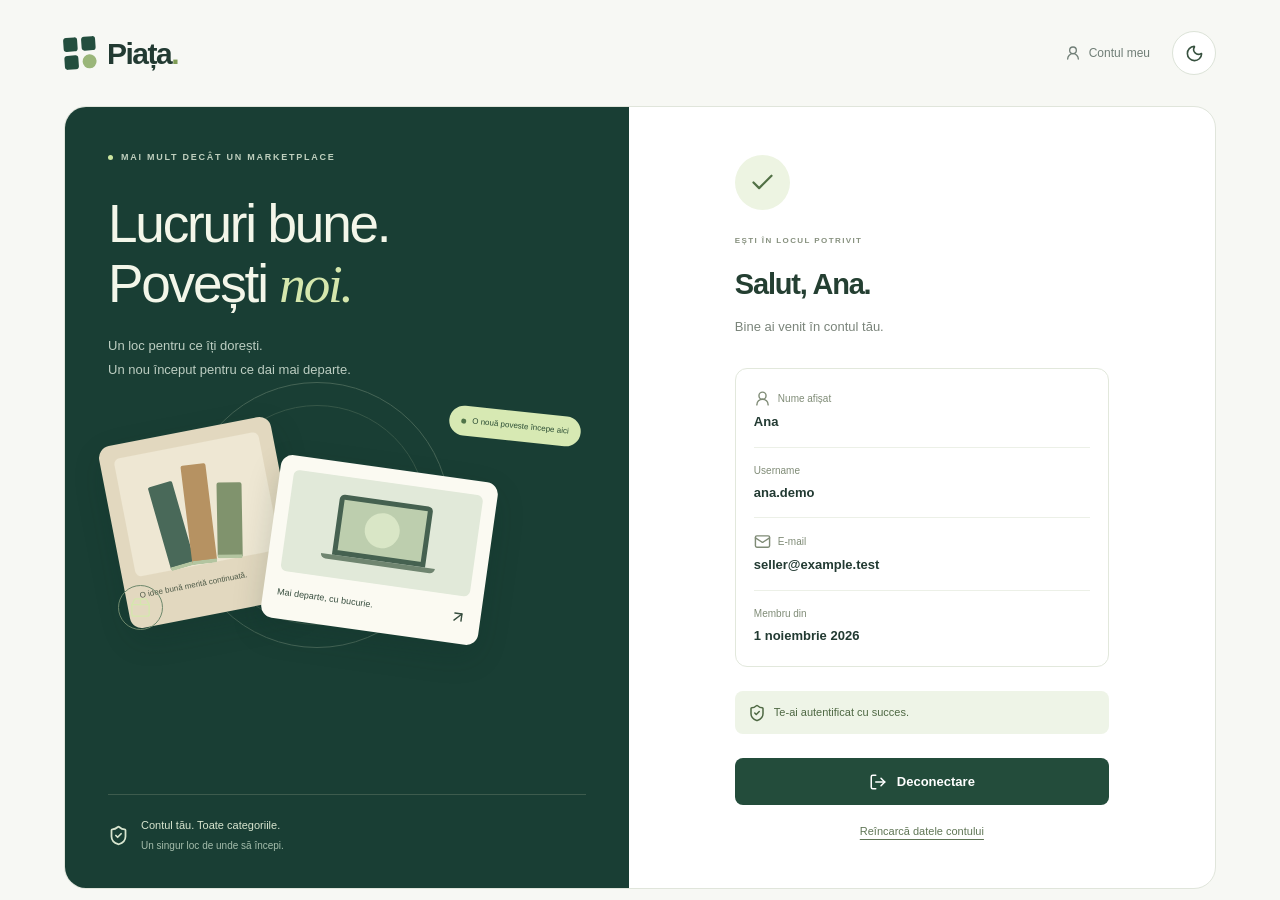
Scenario: authentication screens › does not restore an old session from a delayed refresh after logout
This screenshot has width=1280, height=900.
Expected: the heading "Salut, Ana." is shown, [735, 268, 870, 300]
Click the button "Deconectare": point(922, 782) [735, 758, 1109, 805]
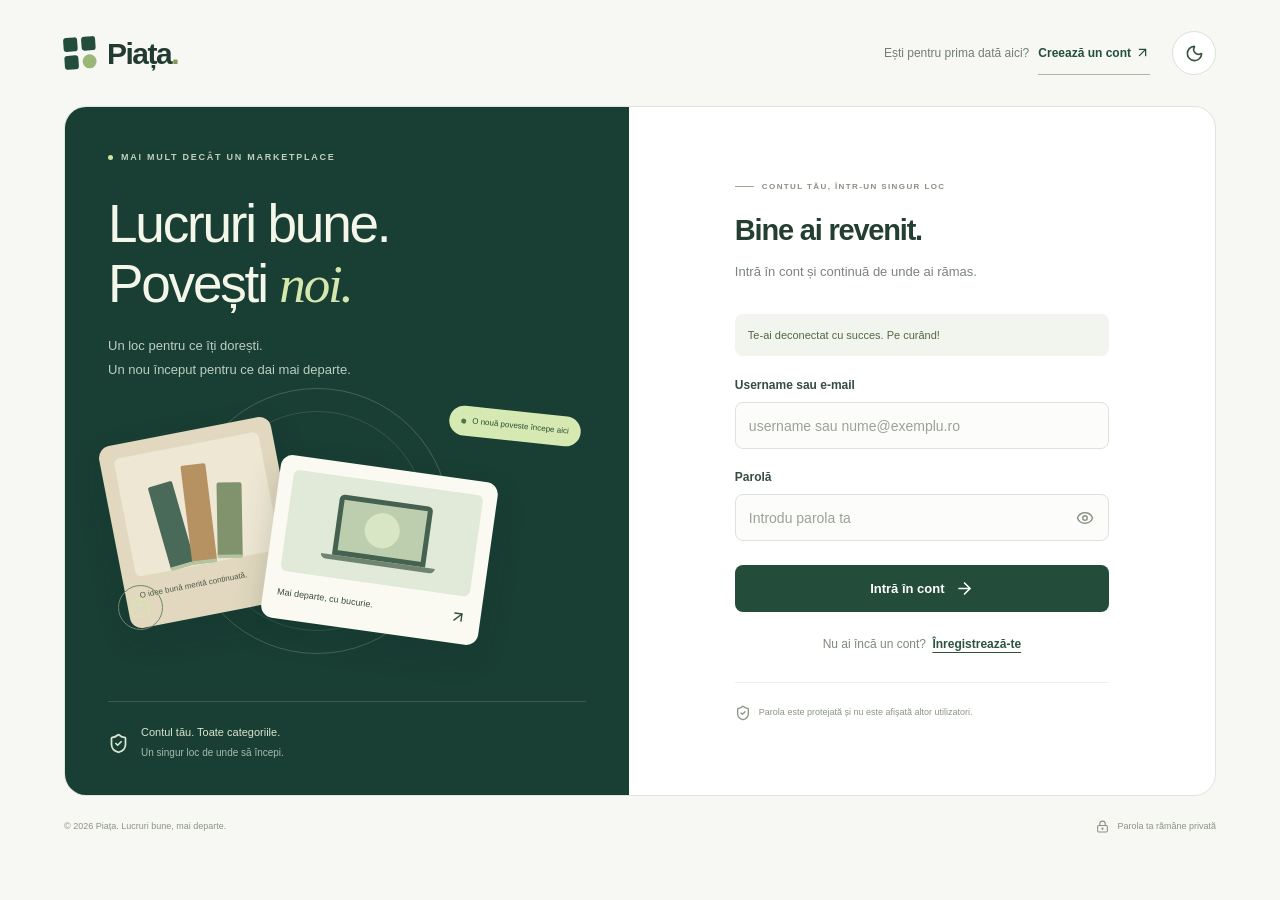
Result: the heading "Bine ai revenit." is shown at [735, 214, 922, 246]
Result: the heading "Salut, Ana." is gone
